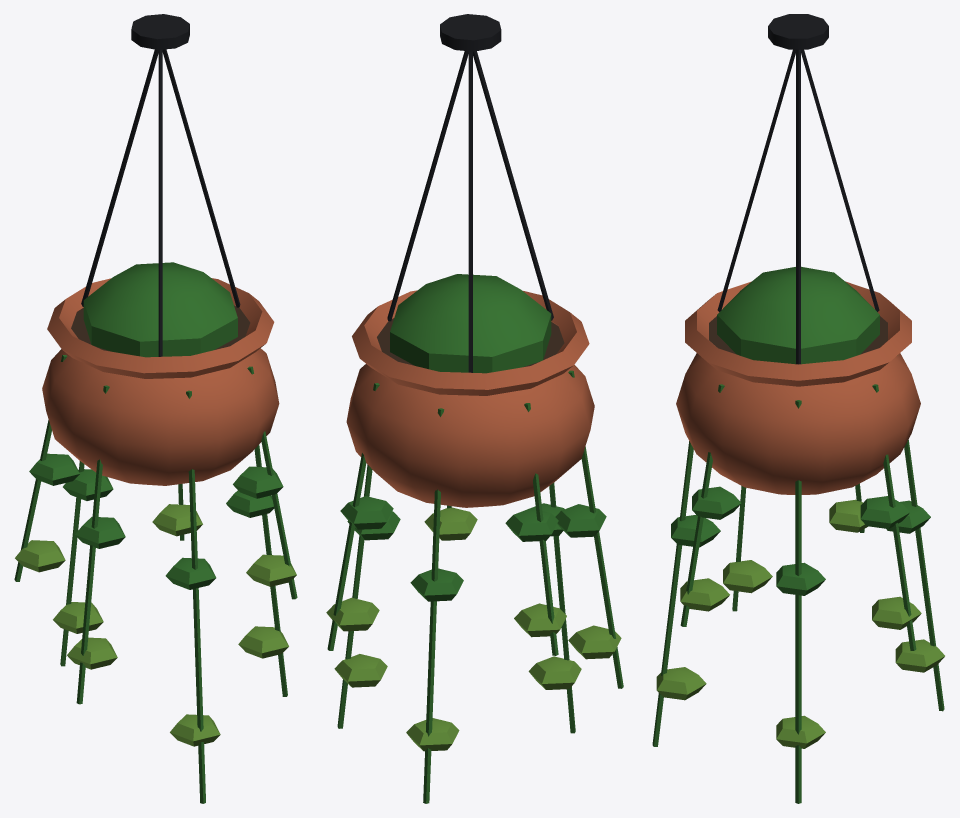
File: plant_hanging_plant.glb
The picture shows the model from 3 angles, left to right: view 1: azimuth 30°, elevation 25°; view 2: azimuth 150°, elevation 25°; view 3: azimuth 270°, elevation 25°; orthographic projection. The views are drawn at different scales.
Visible parts, largest first — view 1: plant_hanging_plant; view 2: plant_hanging_plant; view 3: plant_hanging_plant.
Boxes of the visible parts, x1,y1,x2,y2 form: plant_hanging_plant: [14, 14, 297, 803]; plant_hanging_plant: [326, 14, 623, 803]; plant_hanging_plant: [652, 14, 944, 803].
Size of the model in its own units: 0.468 by 1.32 by 0.4785.
